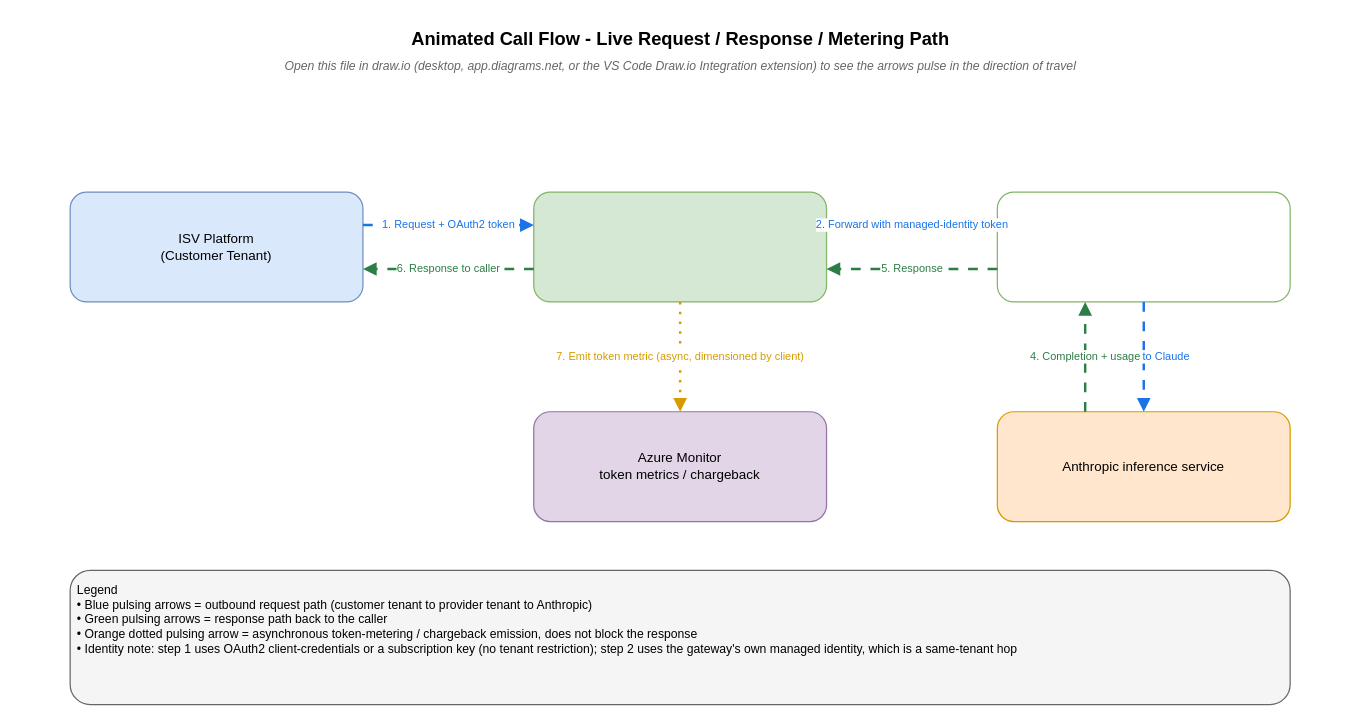
The diagram is 1359 pixels wide and 726 high, and some of its shapes have lost their labels. Here are the shapes that lost their labels. From the top down, the centre of each, then its label:
[680,246]: Azure API Management AI Gateway (Provider Tenant)
[1143,246]: Microsoft Foundry Claude deployment
